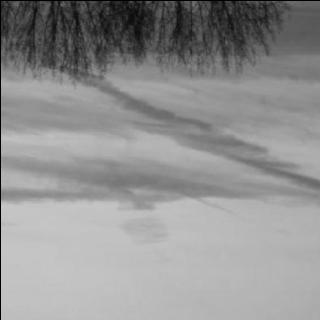Contrails: (0, 84, 320, 235)
